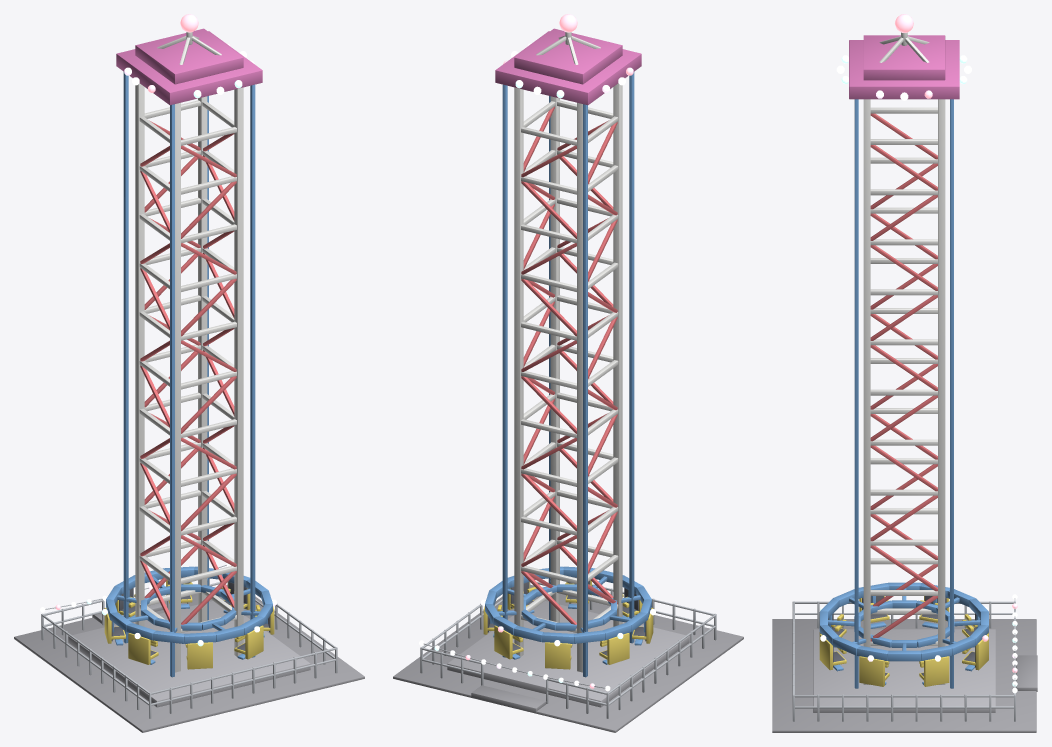
The model's file is th13_freefall_turm.glb.
The picture shows the model from 3 angles, left to right: view 1: azimuth 30°, elevation 25°; view 2: azimuth 150°, elevation 25°; view 3: azimuth 270°, elevation 25°; orthographic projection. The views are drawn at different scales.
Visible parts, largest first — view 1: Cube, Cube.001, Cube.004, Cube.003, Cube.005, Cube.151, Cube.002, Cube.091, Cube.092, Cube.150, Cube.090, Cube.238 (+2 smaller); view 2: Cube, Cube.001, Cube.005, Cube.002, Cube.004, Cube.151, Cube.003, Cube.090, Cube.093, Cube.150, Cube.091, Cube.312 (+3 smaller); view 3: Cube, Cube.001, Cube.004, Cube.005, Cube.151, Cube.150, Cube.092, Cube.093, Cube.312, Cube.256, Cube.193, Cube.287 (+10 smaller).
Part boxes in pixels (x1,y1,x2,y2): Cube: (14, 584, 364, 732); Cube.001: (68, 598, 310, 707); Cube.004: (234, 87, 243, 656); Cube.003: (135, 83, 144, 626); Cube.005: (198, 96, 207, 630); Cube.151: (135, 28, 243, 84); Cube.002: (175, 102, 180, 672); Cube.091: (123, 72, 128, 643); Cube.092: (250, 84, 255, 657); Cube.150: (116, 31, 262, 105); Cube.090: (170, 104, 174, 677); Cube.238: (187, 642, 212, 669); Cube: (393, 584, 743, 732); Cube.001: (447, 598, 689, 707); Cube.005: (514, 87, 523, 656); Cube.002: (613, 83, 622, 626); Cube.004: (550, 96, 559, 630); Cube.151: (514, 28, 622, 84); Cube.003: (577, 102, 582, 672); Cube.090: (629, 72, 634, 643); Cube.093: (502, 84, 507, 657); Cube.150: (495, 31, 641, 105); Cube.091: (583, 104, 587, 677); Cube.312: (471, 685, 546, 712); Cube: (772, 619, 1036, 732); Cube.001: (813, 629, 995, 712); Cube.004: (863, 99, 870, 684); Cube.005: (938, 99, 945, 684); Cube.151: (863, 35, 945, 80); Cube.150: (849, 40, 959, 99); Cube.092: (854, 99, 858, 688); Cube.093: (950, 99, 953, 688); Cube.312: (1016, 655, 1037, 691); Cube.256: (859, 656, 884, 686); Cube.193: (924, 656, 949, 686); Cube.287: (794, 706, 1013, 708).
Size of the model in its own units: 11 by 30.42 by 11.05.
